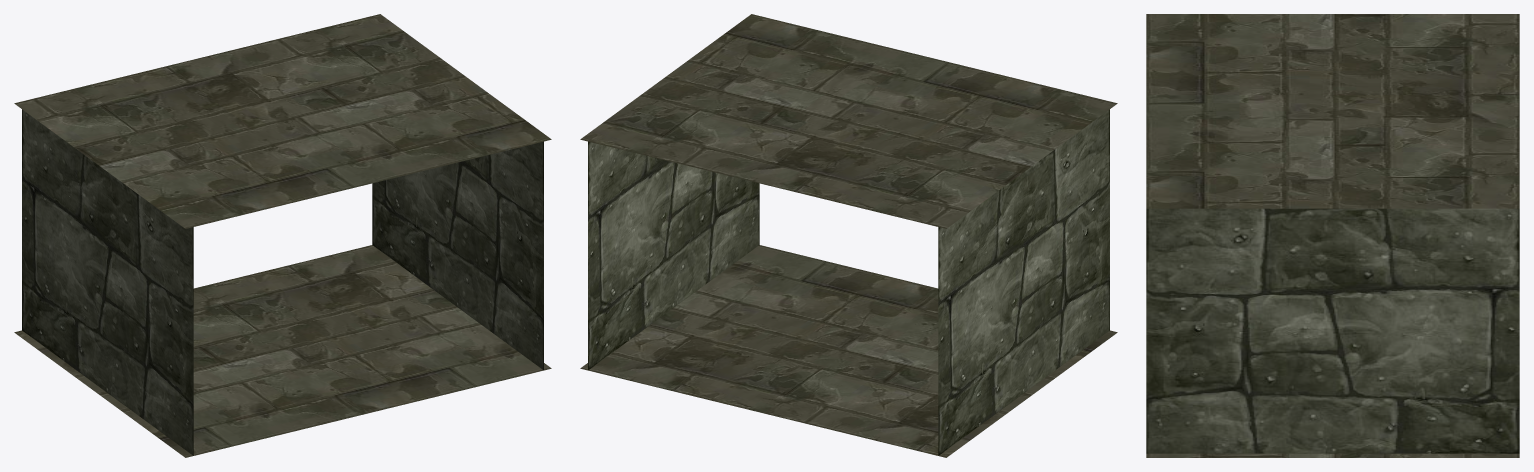
File: wall.FBX
The picture shows the model from 3 angles, left to right: view 1: azimuth 30°, elevation 25°; view 2: azimuth 150°, elevation 25°; view 3: azimuth 270°, elevation 25°; orthographic projection. The views are drawn at different scales.
Visible parts, largest first — view 1: floor, wall; view 2: floor, wall; view 3: wall, floor.
Boxes of the visible parts, <box> form: floor: <box>14,14,551,457</box>; wall: <box>22,109,543,455</box>; floor: <box>580,14,1117,457</box>; wall: <box>588,109,1109,455</box>; wall: <box>1146,208,1519,453</box>; floor: <box>1146,14,1519,457</box>.
Bounding box in the file's own units: 194 × 116 × 157.
Materials: 2 (2 with a texture image).
